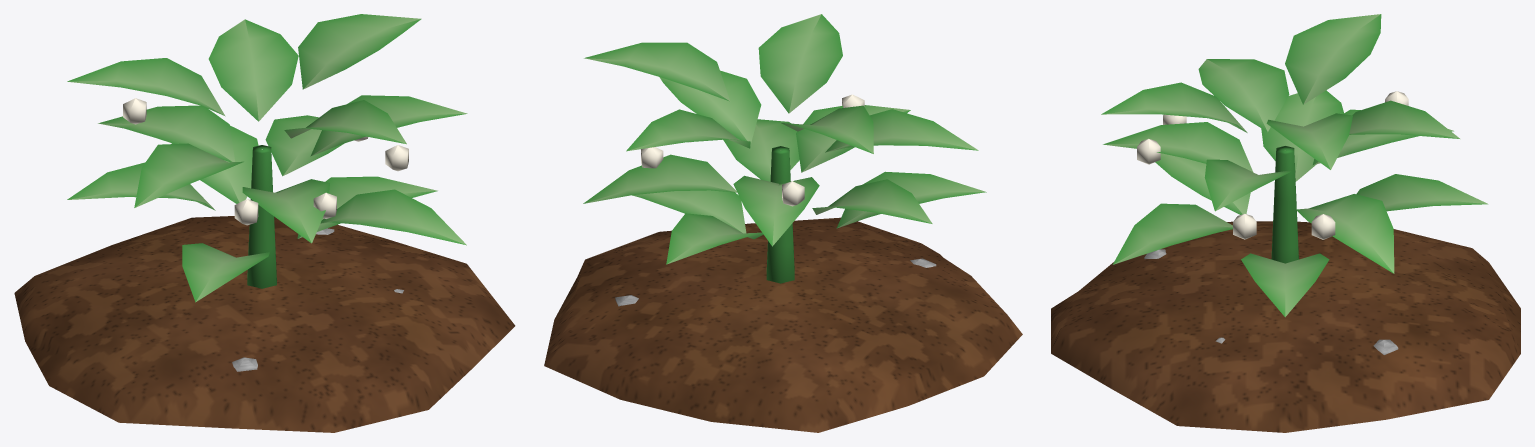
The model's file is plant-strawberry-3.glb.
3 renders of one model, left to right at view 1: azimuth 30°, elevation 25°; view 2: azimuth 150°, elevation 25°; view 3: azimuth 270°, elevation 25°, orthographic. The views are drawn at different scales.
Visible parts, largest first — view 1: plant-strawberry-3; view 2: plant-strawberry-3; view 3: plant-strawberry-3.
Part boxes in pixels (<box>): plant-strawberry-3: <box>14,14,515,432</box>; plant-strawberry-3: <box>544,14,1022,432</box>; plant-strawberry-3: <box>1051,14,1520,432</box>.
Size of the model in its own units: 0.84 by 0.498 by 0.8189.
5 materials, 2 textured.
